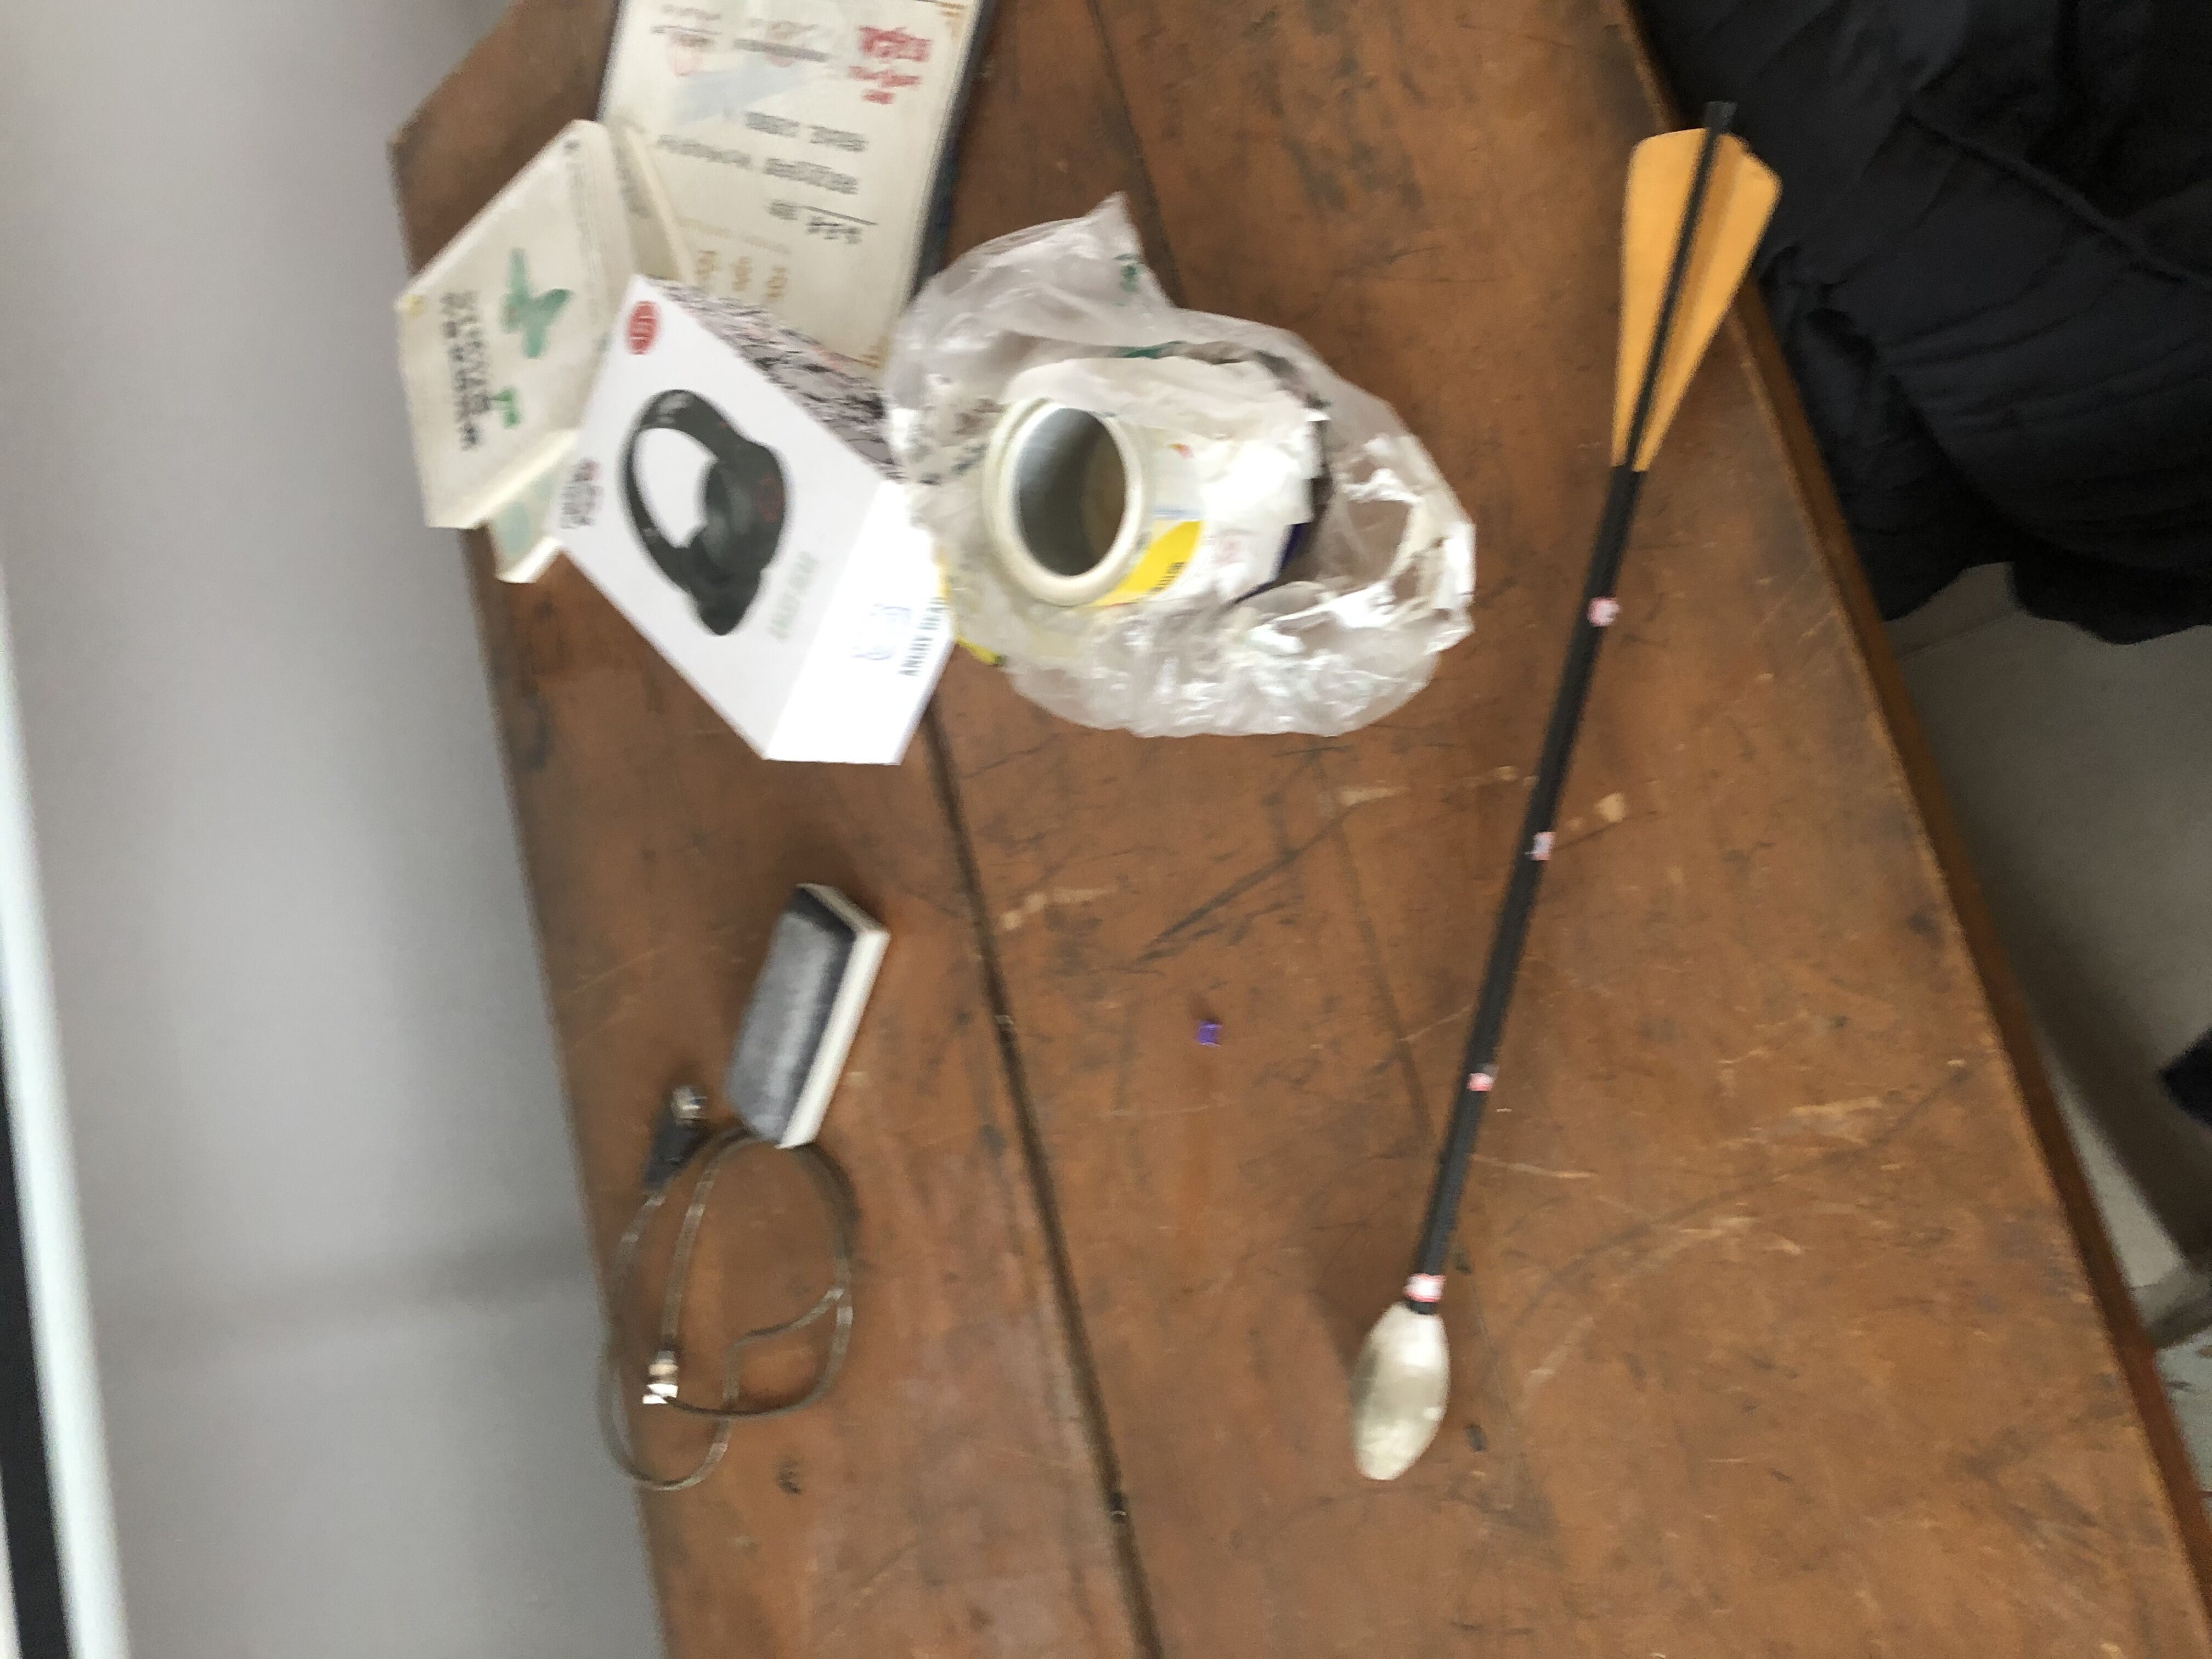arrow: (1339, 98, 1787, 1481)
arrowFront: (1348, 1305, 1451, 1481)
